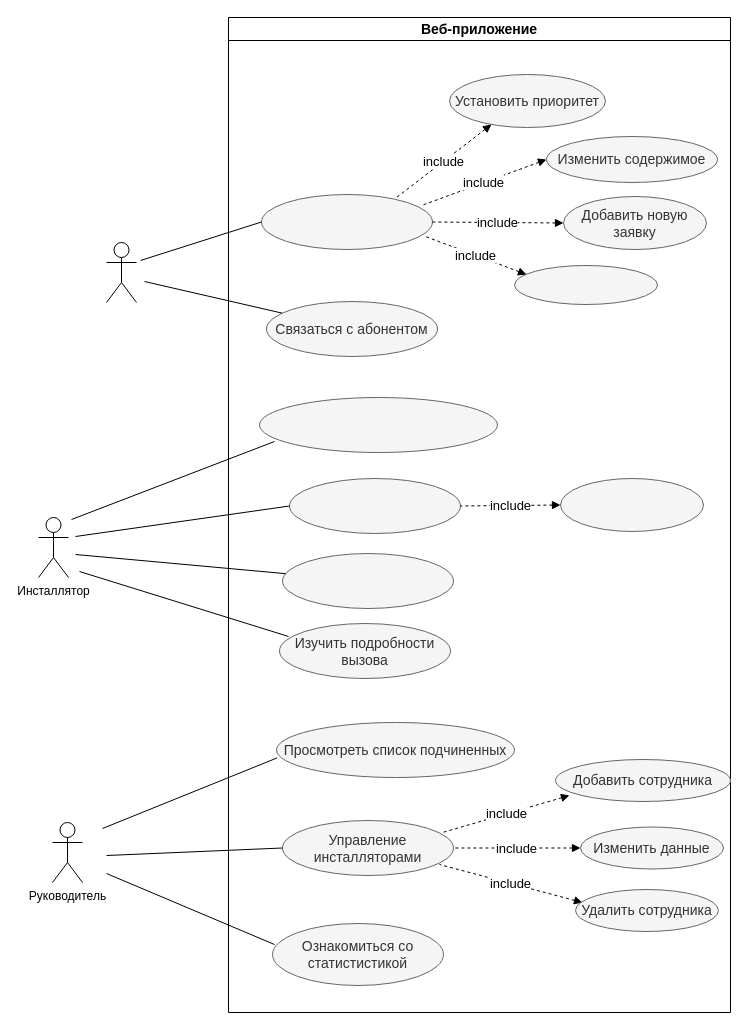
Some shapes in this 748 by 1030 pixel diagram are drawn without their labels. Here are the shapes that lost their labels. From the top down, the centre of each, then its label:
(346,222): Управление заявками
(121,272): Диспетчер
(586,284): Удалить заявку
(378,424): Просмотреть список назначенных заявок
(374,506): Создать отчет
(632,505): Добавить комментарий
(368,580): Отложить выезд
